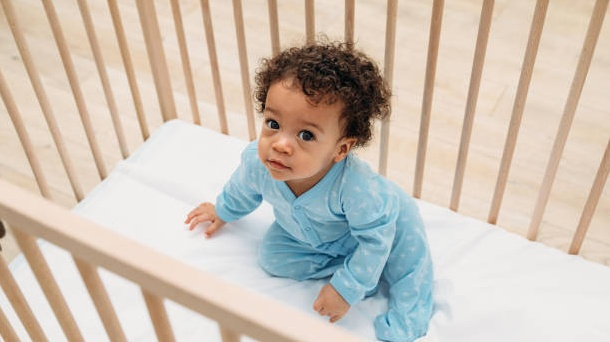baby: (186, 42, 432, 340)
crib: (0, 0, 609, 340)
